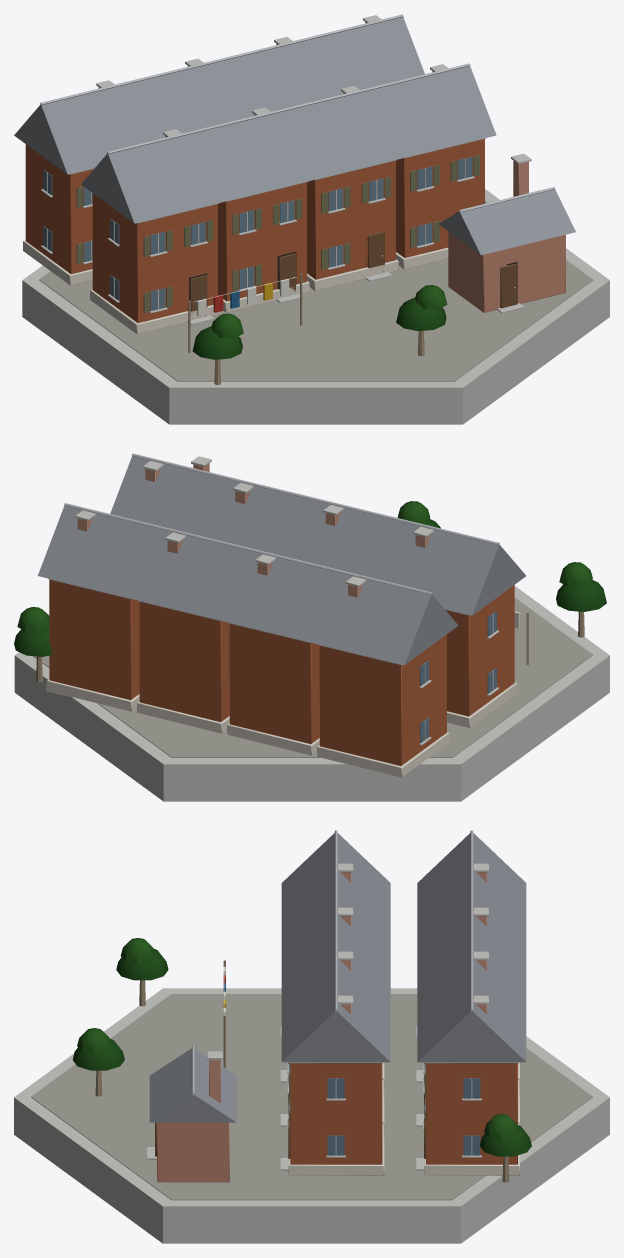
Rendered from workerHouse.glb.
3 views of the same model, one above another, from view 1: azimuth 30°, elevation 25°; view 2: azimuth 150°, elevation 25°; view 3: azimuth 270°, elevation 25° (orthographic).
Visible parts, largest first — view 1: roof_slate, plaster, wall_concrete, pavers, wood, brick, glass, stone, leaf, metal, paint; view 2: roof_slate, plaster, wall_concrete, pavers, stone, leaf, metal, brick, glass, wood; view 3: roof_slate, pavers, wall_concrete, plaster, brick, leaf, stone, metal, glass, wood.
Boxes of the visible parts, box(x1,y1,x2,y2) form: roof_slate: box(14, 17, 575, 255); plaster: box(25, 139, 484, 322); wall_concrete: box(22, 15, 609, 424); pavers: box(39, 200, 592, 381); wood: box(76, 155, 517, 384); brick: box(98, 22, 565, 312); glass: box(43, 157, 472, 310); stone: box(23, 240, 448, 334); leaf: box(192, 285, 447, 359); metal: box(40, 14, 555, 212); paint: box(193, 277, 296, 316); roof_slate: box(38, 456, 525, 665); plaster: box(49, 579, 514, 765); wall_concrete: box(14, 456, 609, 801); pavers: box(33, 597, 592, 757); stone: box(46, 679, 517, 777); leaf: box(14, 501, 606, 656); metal: box(64, 453, 499, 594); brick: box(77, 463, 430, 597); glass: box(420, 611, 496, 743); wood: box(36, 611, 584, 682); roof_slate: box(149, 833, 526, 1122); pavers: box(31, 994, 592, 1200); wall_concrete: box(14, 863, 609, 1243); plaster: box(290, 1063, 517, 1164); brick: box(157, 872, 486, 1182); leaf: box(72, 938, 531, 1156); stone: box(288, 1062, 519, 1175); metal: box(191, 830, 473, 1095); glass: box(289, 1065, 480, 1155); wood: box(95, 960, 509, 1182).
Bounding box in the file's own units: 21.3 × 9.44 × 24.6.
